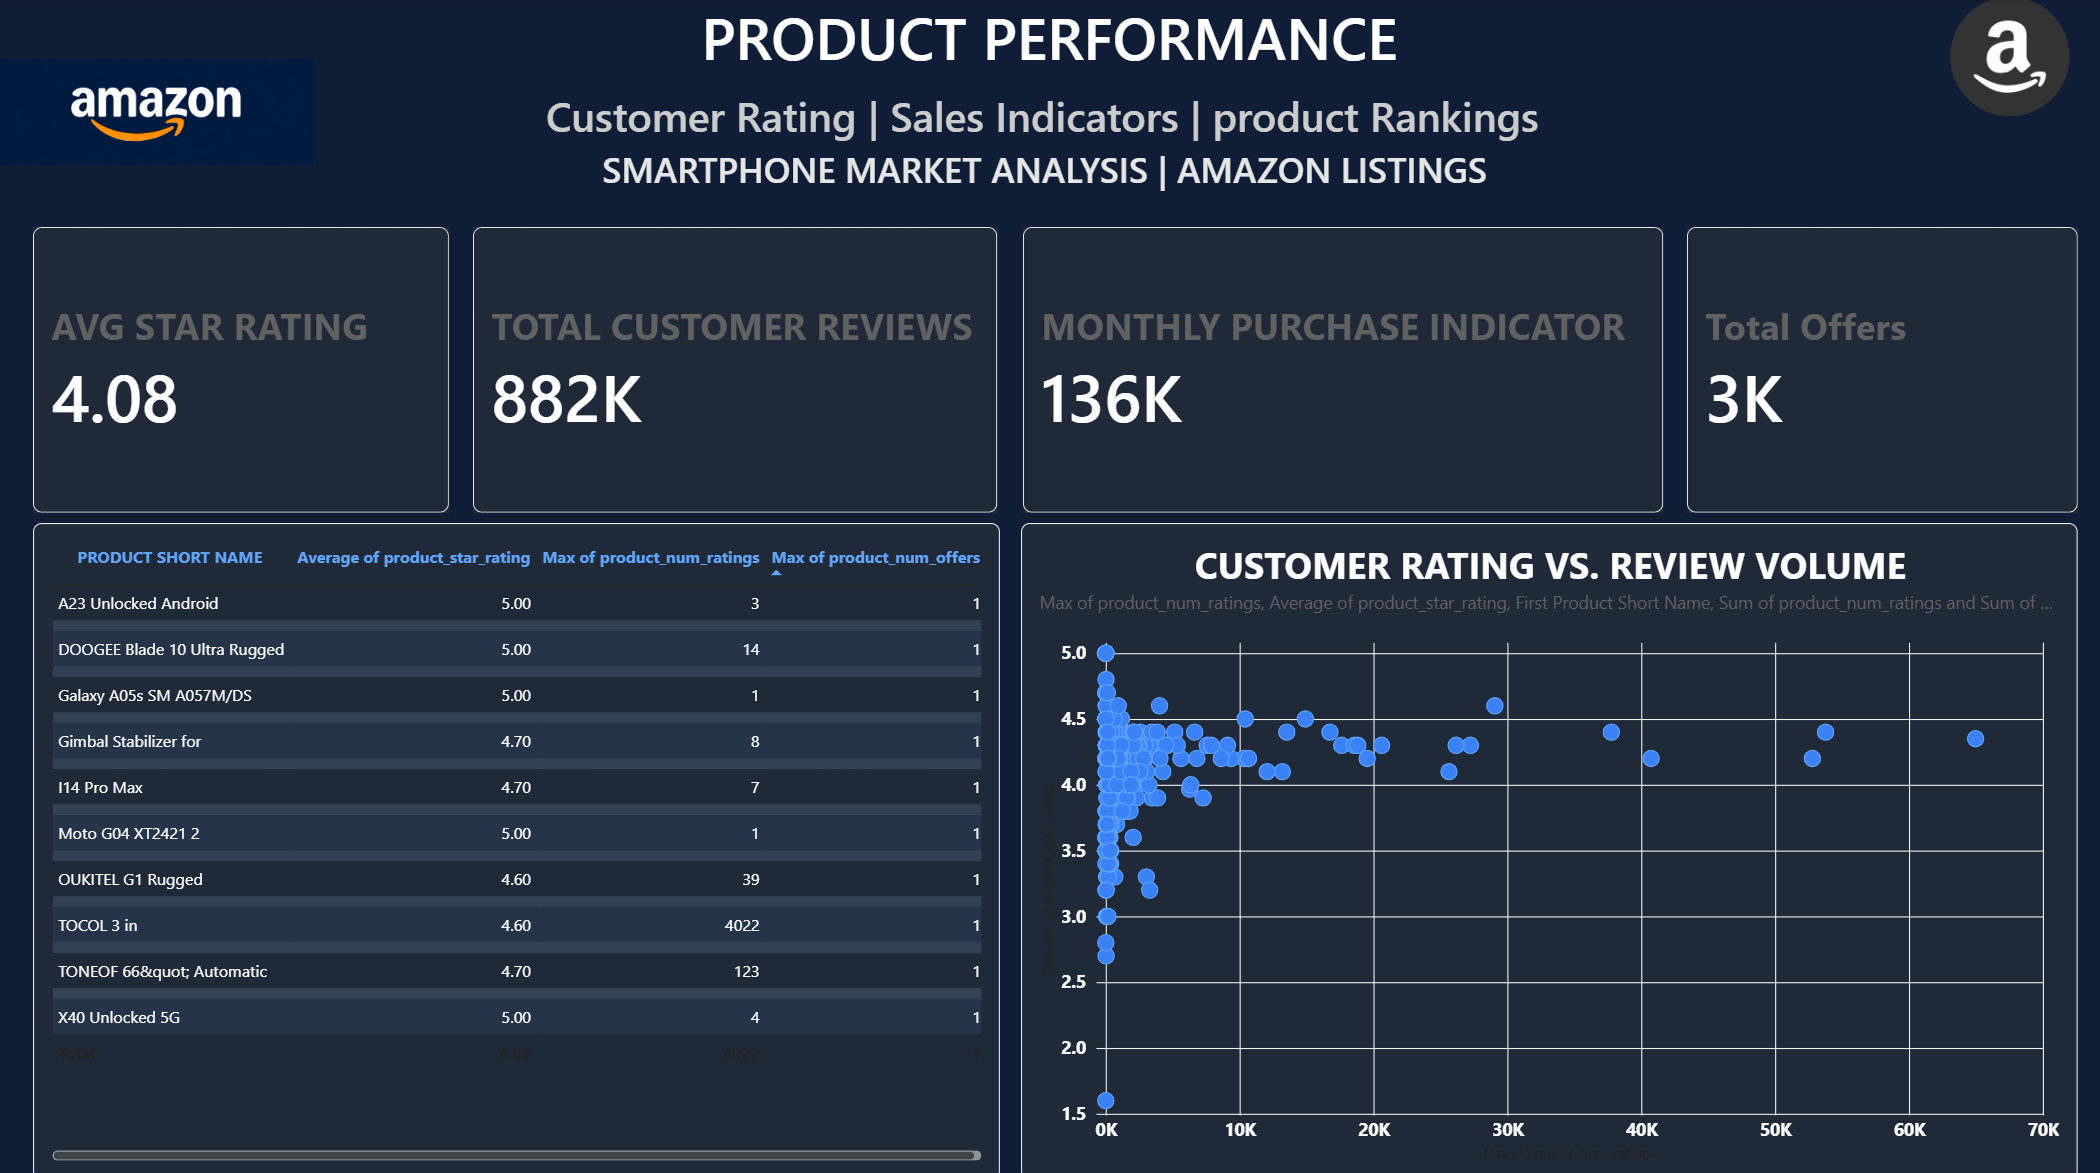

The dashboard page shown, as its layout file describes it:
{"tool":"powerbi","page":{"name":"Product Performance ","canvas":[1920,1080],"ordinal":2},"visuals":[{"type":"textbox","box":[318.1,0,1283.8,281.2],"z":0},{"type":"cardVisual","fields":{"Data":["MEASURES (2).AVG STAR RATING"]},"box":[31.2,210.2,380.6,261.3],"z":1000},{"type":"cardVisual","fields":{"Data":["MEASURES (2).Total Customer Reviews"]},"box":[433.6,210.2,480,261.3],"z":2000},{"type":"cardVisual","fields":{"Data":["MEASURES (2).Total Sales Volume Lower Bound"]},"box":[935.4,210.2,585.1,261.3],"z":3000},{"type":"cardVisual","fields":{"Data":["MEASURES (2).Total Offers"]},"box":[1542.2,210.2,357.9,261.3],"z":4000},{"type":"tableEx","fields":{"Values":["DimProduct.PRODUCT SHORT NAME ","Avg(FactProductRecords.product_star_rating)","Max(FactProductRecords.product_num_ratings)","Max(FactProductRecords.product_num_offers)"]},"box":[31.2,480,883.3,599.3],"z":5000},{"type":"scatterChart","title":"CUSTOMER RATING VS. REVIEW VOLUME","fields":{"Category":["DimProduct.Product Short Name"],"X":["Max(FactProductRecords.product_num_ratings)"],"Y":["Avg(FactProductRecords.product_star_rating)"]},"box":[934.4,480,965.7,599.3],"z":6000},{"type":"image","box":[0,0,287,210],"z":7000},{"type":"image","box":[1753.9,0,166.1,109.2],"z":8000}]}

Visuals, with their boxes in screenshot pixels (x1, y1, x2, y2), scaled from the page's 1920x1080 canvas onto the 2100x1173 screenshot:
textbox: 348, 0, 1752, 305
cardVisual - MEASURES (2).AVG STAR RATING: 34, 228, 450, 512
cardVisual - MEASURES (2).Total Customer Reviews: 474, 228, 999, 512
cardVisual - MEASURES (2).Total Sales Volume Lower Bound: 1023, 228, 1663, 512
cardVisual - MEASURES (2).Total Offers: 1687, 228, 2078, 512
tableEx - DimProduct.PRODUCT SHORT NAME  x Avg(FactProductRecords.product_star_rating): 34, 521, 1000, 1172
"CUSTOMER RATING VS. REVIEW VOLUME" scatterChart: 1022, 521, 2078, 1172
image: 0, 0, 314, 228
image: 1918, 0, 2099, 119
